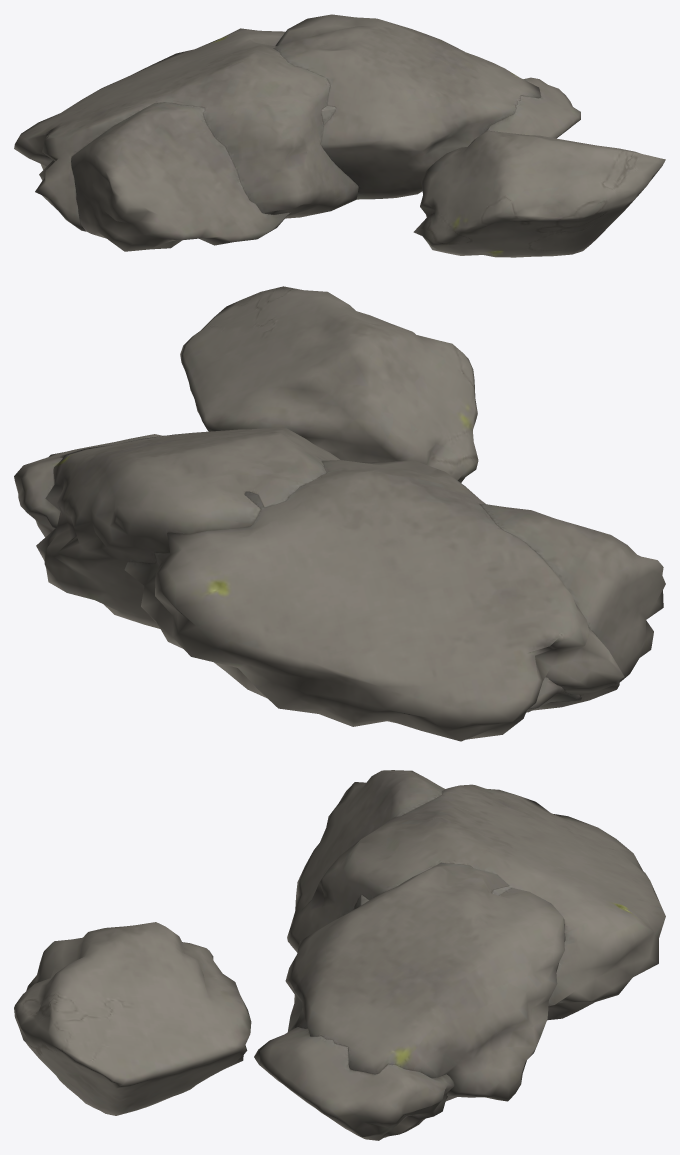
The model's file is mossy-cluster.glb.
3 views of the same model, one above another, from view 1: azimuth 30°, elevation 25°; view 2: azimuth 150°, elevation 25°; view 3: azimuth 270°, elevation 25° (orthographic). The views are drawn at different scales.
Parts seen in each view (by area): view 1: stone; view 2: stone; view 3: stone.
Boxes of the visible parts, box(x1,y1,x2,y2) form: stone: box(14, 14, 665, 257); stone: box(14, 286, 665, 741); stone: box(14, 770, 665, 1140).
Bounding box in the file's own units: 1.16 × 0.2991 × 1.08.
1 material, 1 textured.
